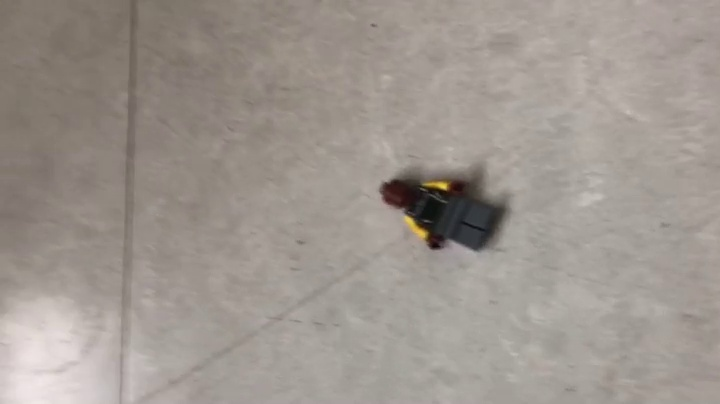people: (378, 175, 503, 252)
